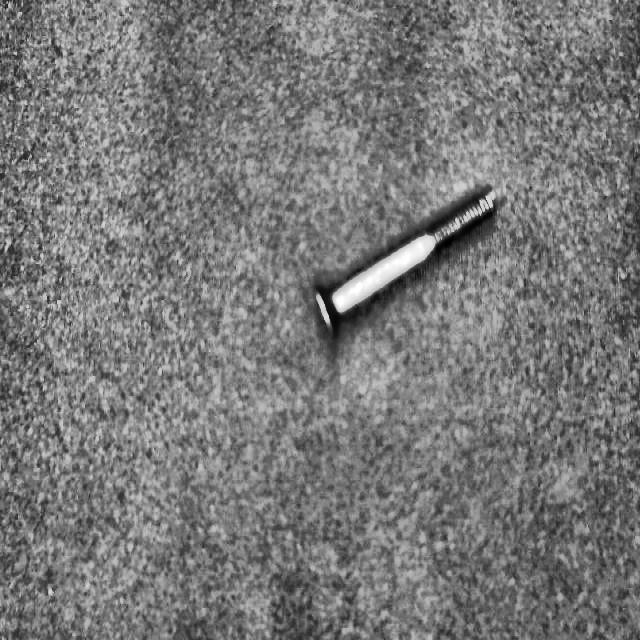Flat head socket screw: (312, 182, 498, 338)
